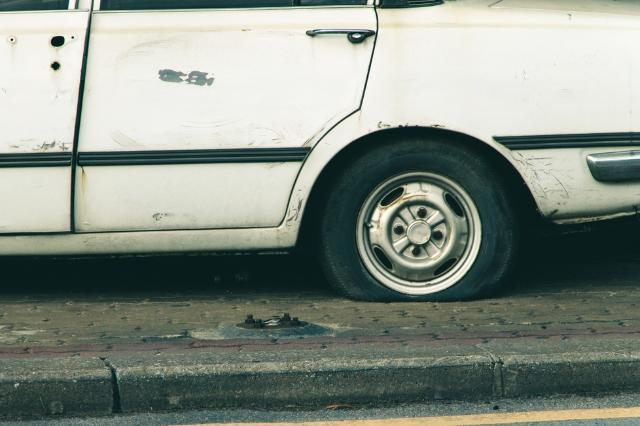Bumper: (514, 143, 620, 226)
Door: (107, 28, 289, 158), (6, 19, 72, 162)
